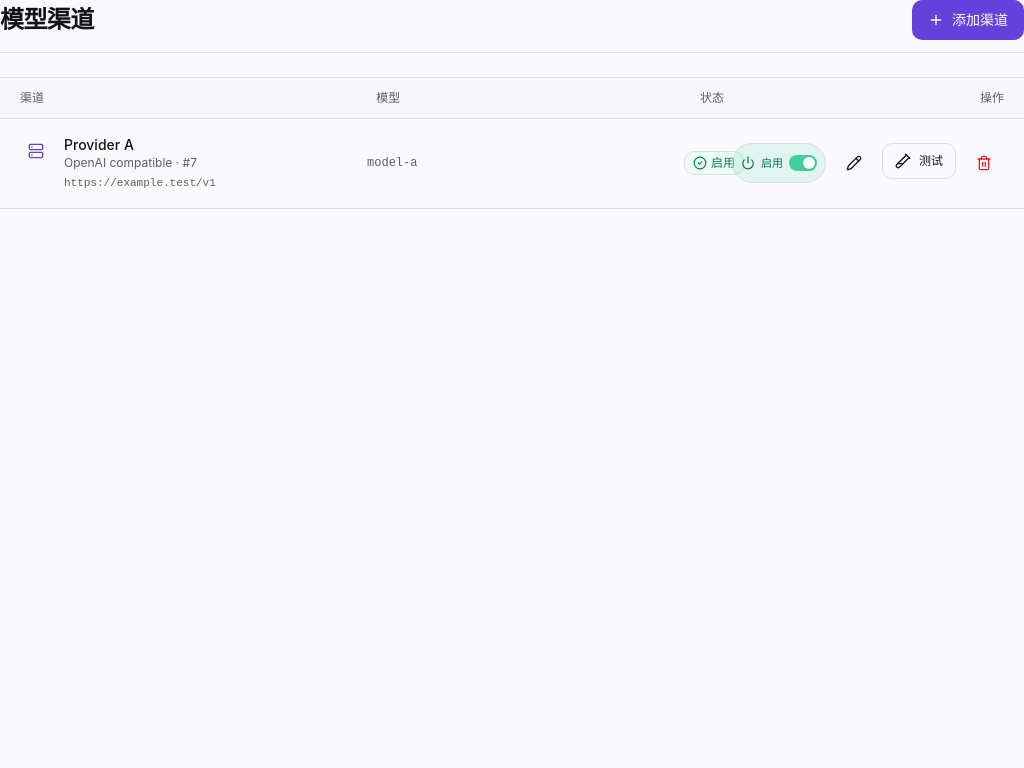
Test case: ChannelsPage supplier request profile › edits an existing supplier without requiring its stored key
Click the button named "编辑渠道 Provider A" at [854, 163], box [834, 143, 874, 183]
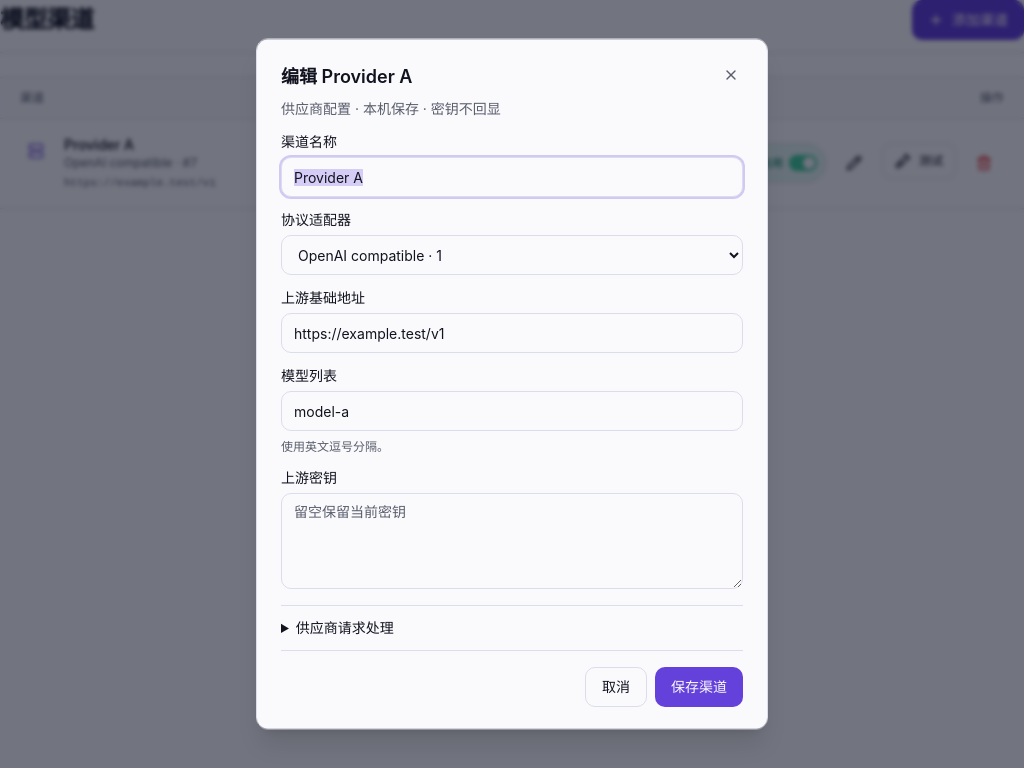
Result: the heading "编辑 Provider A" is shown at [281, 66, 412, 87]
Result: the text box with placeholder "留空保留当前密钥" is empty at [281, 493, 743, 589]
Click the heading "供应商请求处理" at [345, 628], box [296, 619, 394, 636]
(page scrolled)
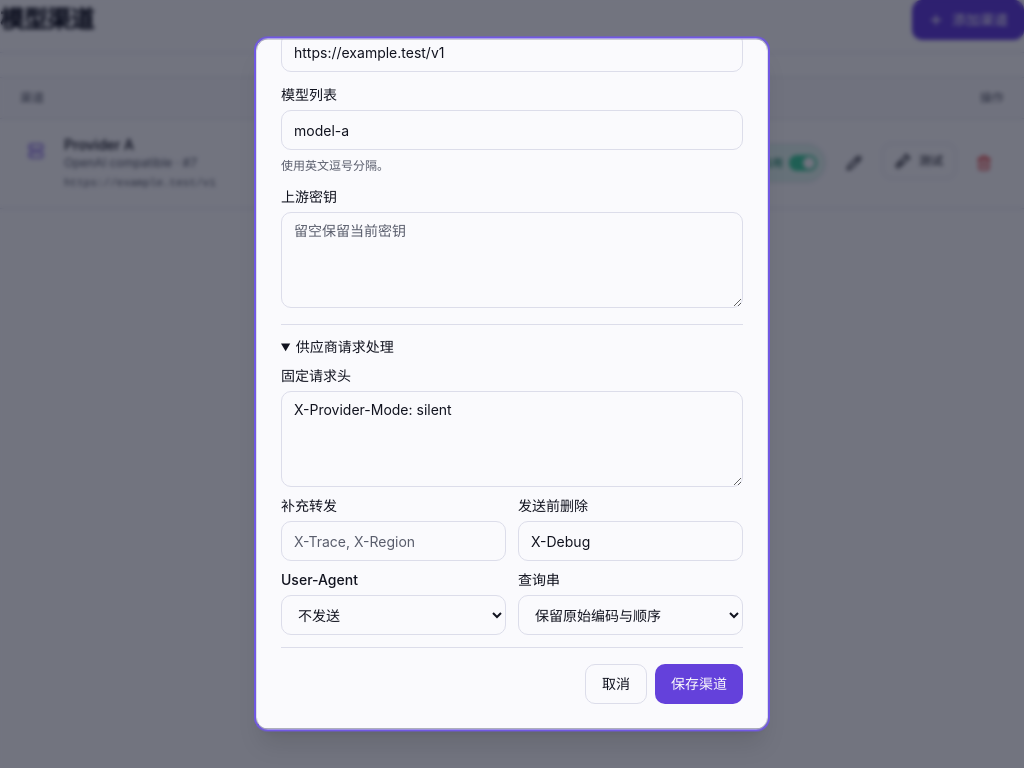
Result: the text box labelled "固定请求头" holds "X-Provider-Mode: silent" at [281, 391, 743, 487]
Result: the field labelled "发送前删除" holds "X-Debug" at [518, 521, 743, 561]
Result: the dropdown labelled "User-Agent" shows "不发送" at [281, 595, 506, 635]
